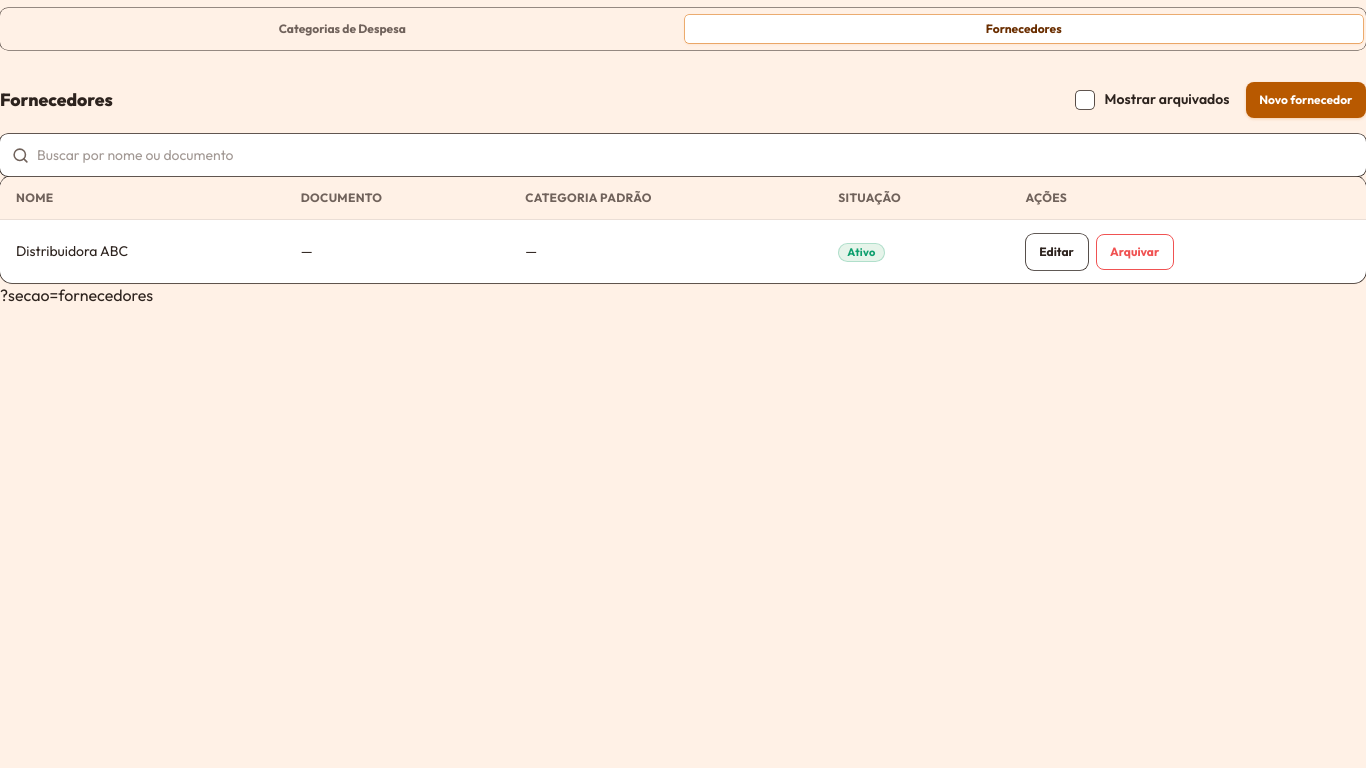
PlanoContasTab (adaptador em memória) › arquiva fornecedor com confirmação pelo ConfirmDialog
expect the text "Distribuidora ABC" is shown: met, box [0, 220, 285, 283]
Click the button "Arquivar" at (1135, 252), box [1096, 234, 1174, 270]
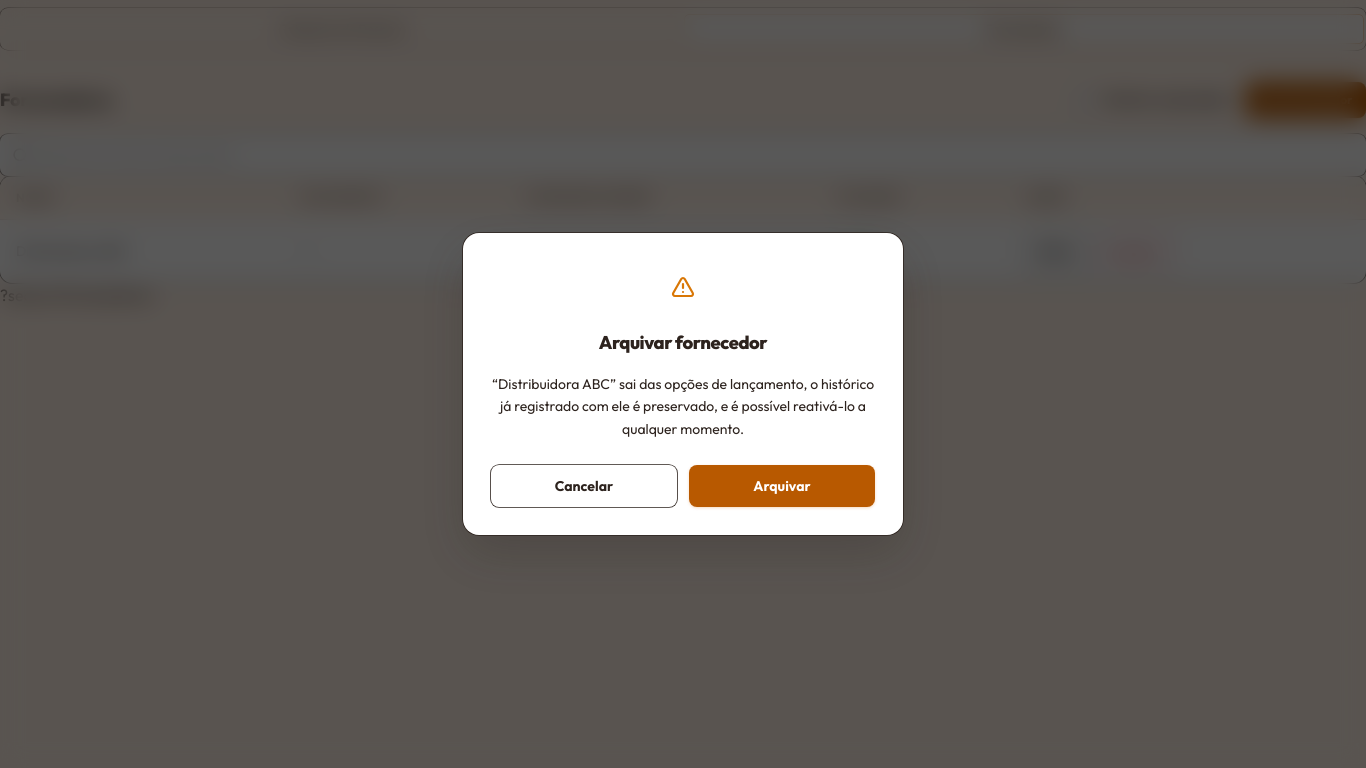
expect the text "sai das opções de lançamento" is shown: met, box [500, 375, 874, 438]
Click the button "Arquivar" at (782, 486), box [689, 465, 875, 507]
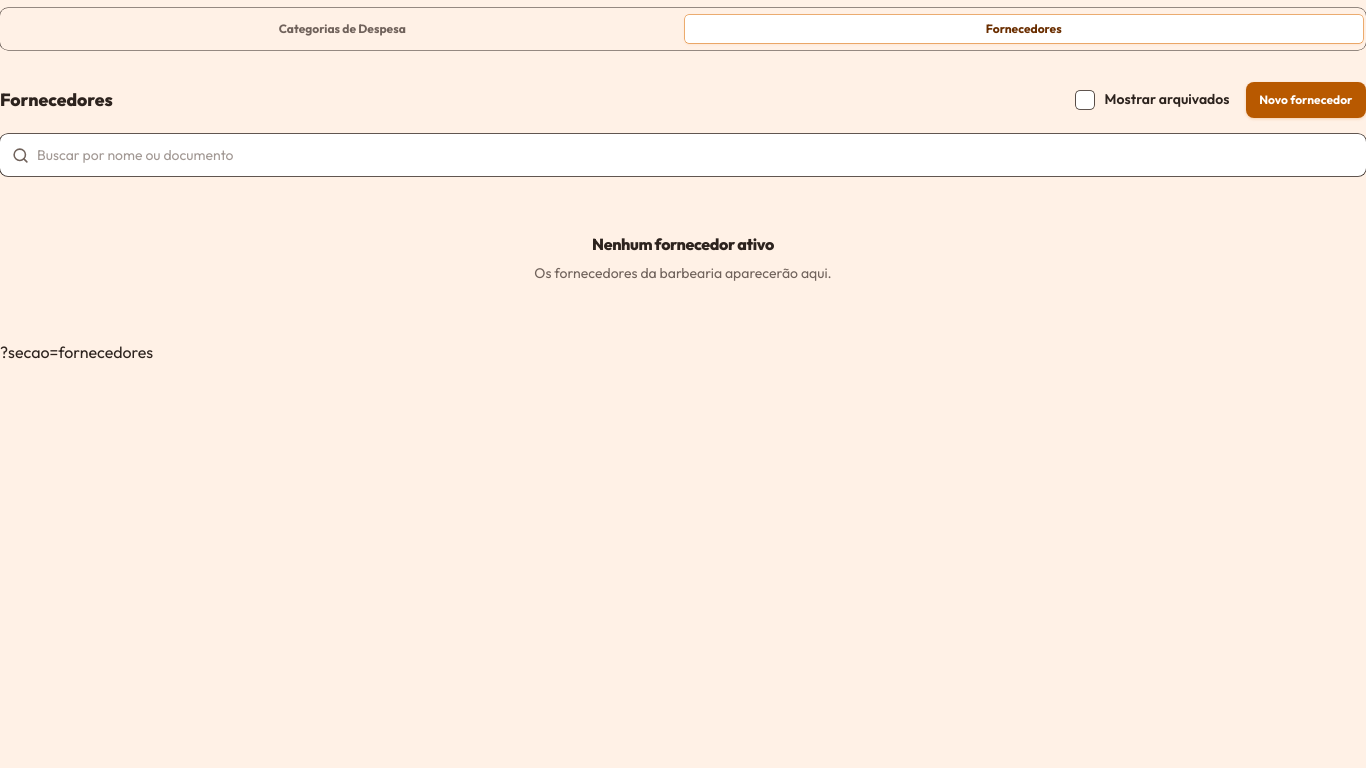
expect the text "Distribuidora ABC" is gone: met
expect the heading "Nenhum fornecedor ativo" is shown: met, box [592, 232, 774, 256]
